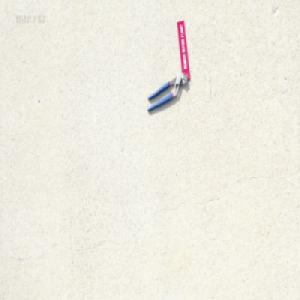Label: (176, 20, 190, 80)
Pliers: (146, 70, 188, 112)
